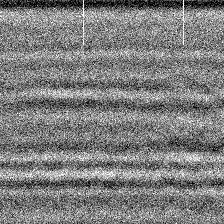Utility: (170, 74, 184, 76)
